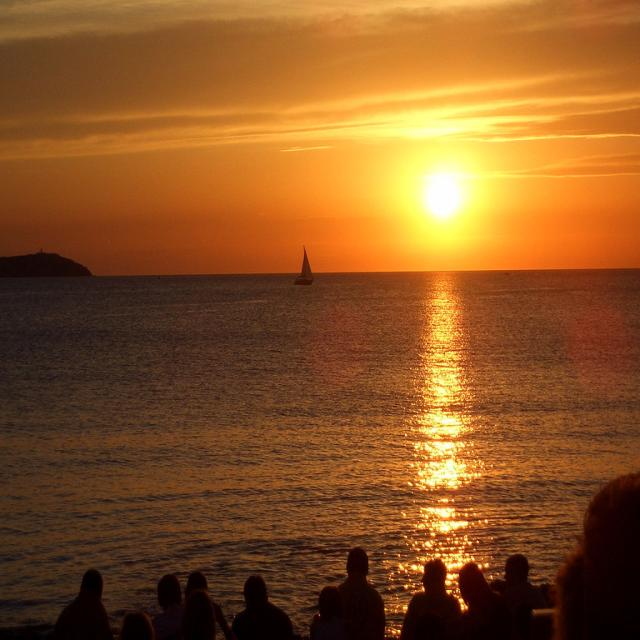no_fire: (272, 89, 573, 544)
